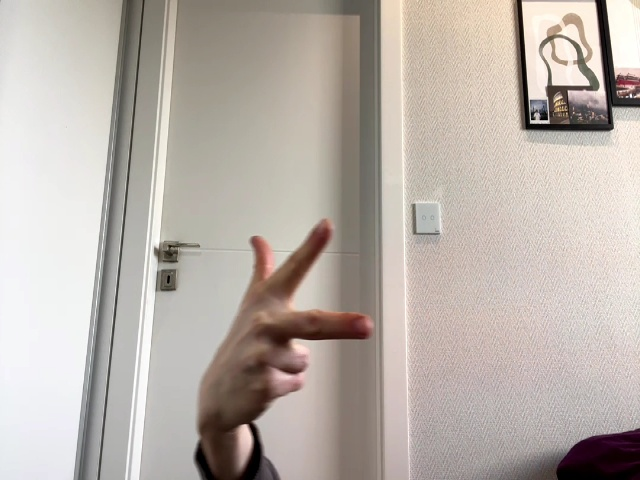K: (204, 220, 371, 417)
